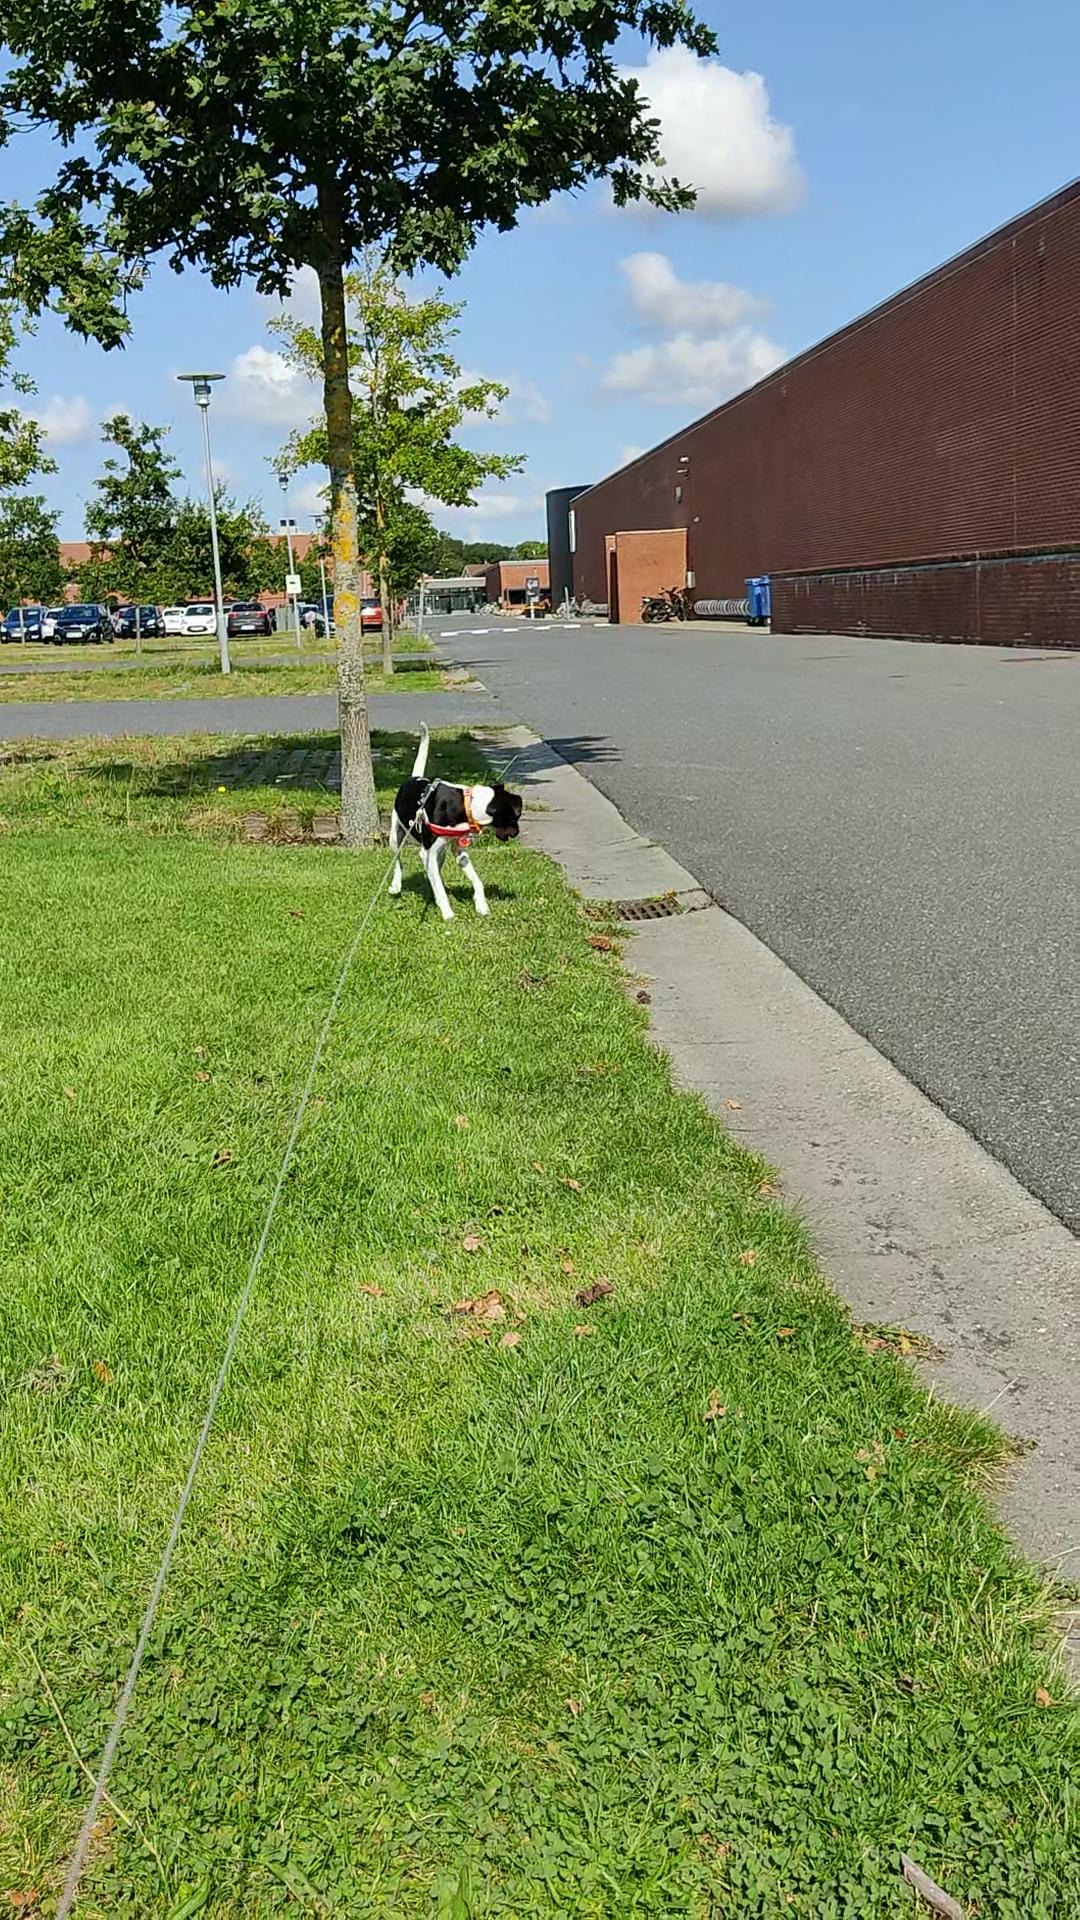Dog: (382, 717, 526, 924)
